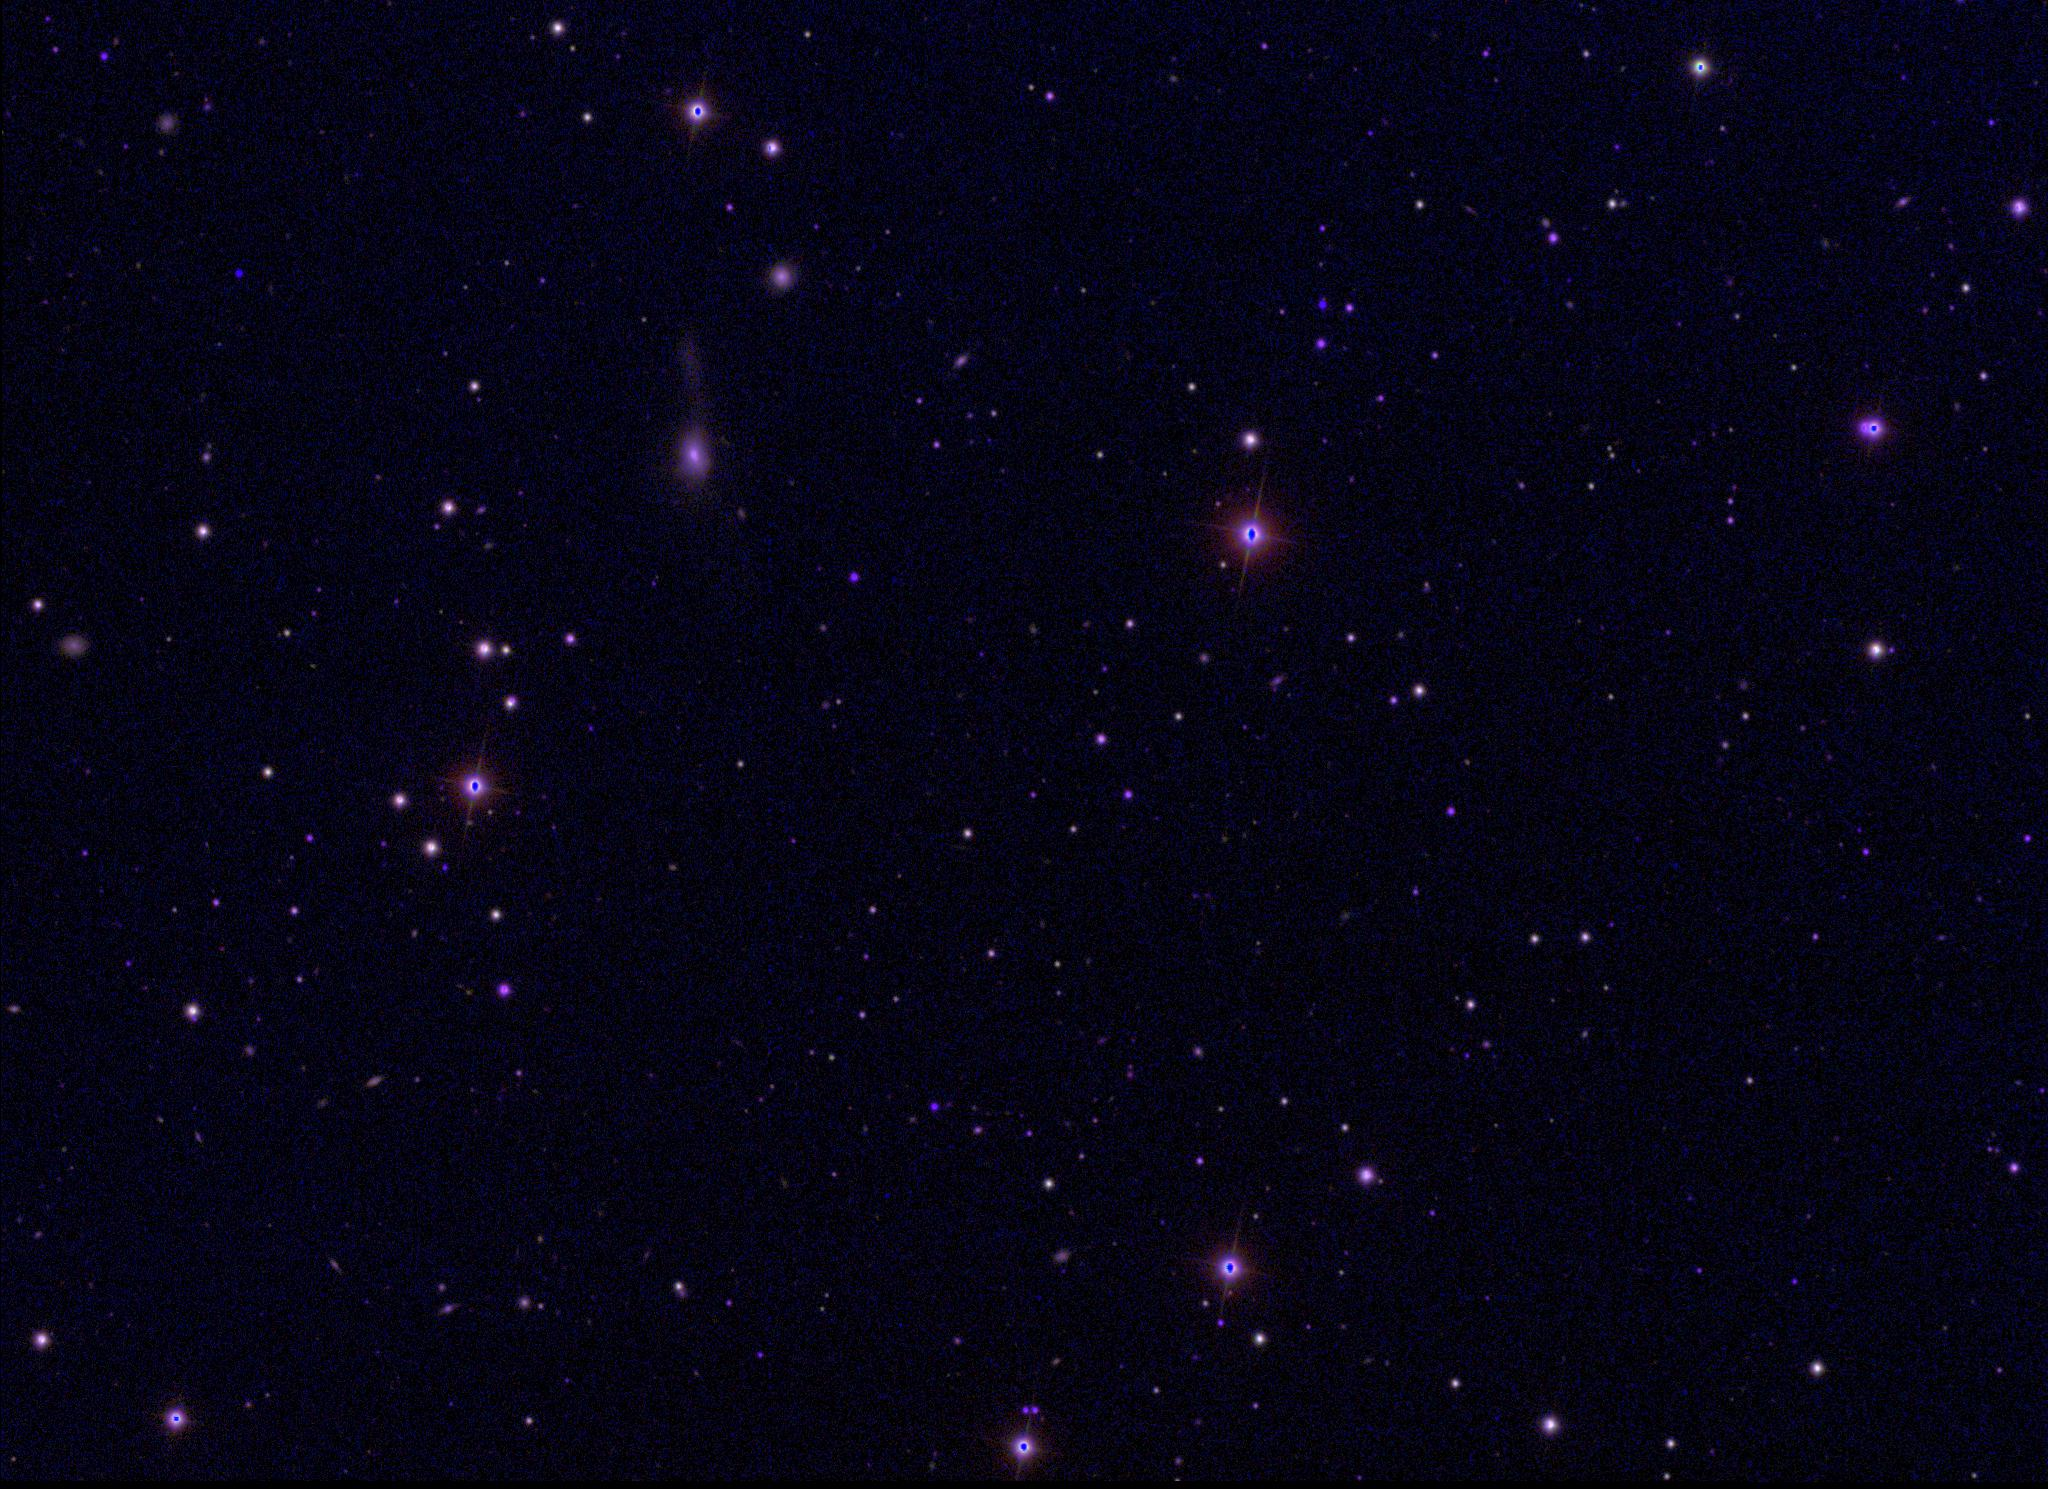L: (232, 266, 246, 280)
